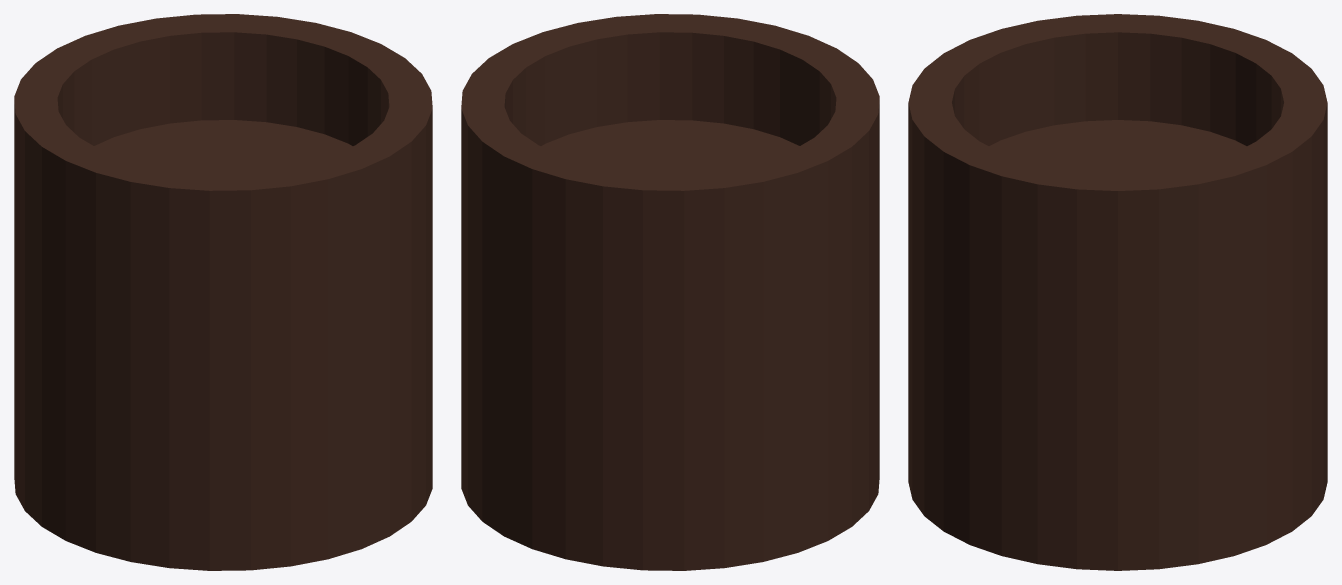
The model's file is tej.fbx.
The picture shows the model from 3 angles, left to right: view 1: azimuth 30°, elevation 25°; view 2: azimuth 150°, elevation 25°; view 3: azimuth 270°, elevation 25°; orthographic projection.
Parts seen in each view (by area): view 1: Cylinder, Cylinder.001; view 2: Cylinder, Cylinder.001; view 3: Cylinder, Cylinder.001.
Boxes of the visible parts, x1,y1,x2,y2 form: Cylinder: (14,14,432,570); Cylinder.001: (94,120,352,172); Cylinder: (461,14,879,570); Cylinder.001: (541,120,799,172); Cylinder: (908,14,1327,570); Cylinder.001: (989,120,1246,172).
Bounding box in the file's own units: 89.13 × 89.13 × 89.13.
